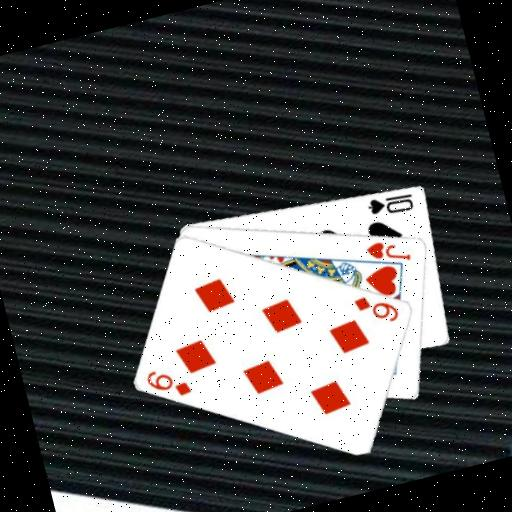10S: (363, 186, 418, 222)
6D: (350, 286, 403, 332), (142, 360, 195, 406)
JH: (362, 231, 414, 271)
